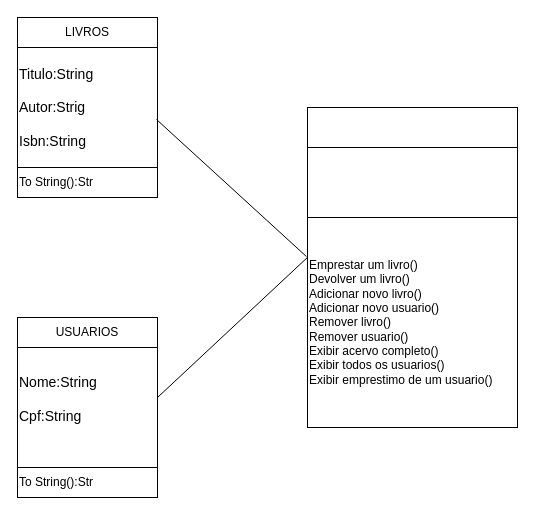
This 535x515 diagram has some shape labels left out. Each missing label, with the centre of its shape:
Acervo: Array List<Livro> ListaUsuarios: Array List <Usuarios>: the point at 412,182
BIBLIOTECA: the point at 412,127
